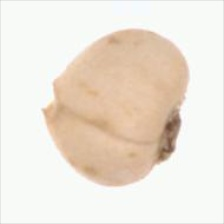L5: (37, 96, 157, 149), (41, 59, 77, 126), (156, 106, 184, 169)
L6: (39, 26, 192, 187)
